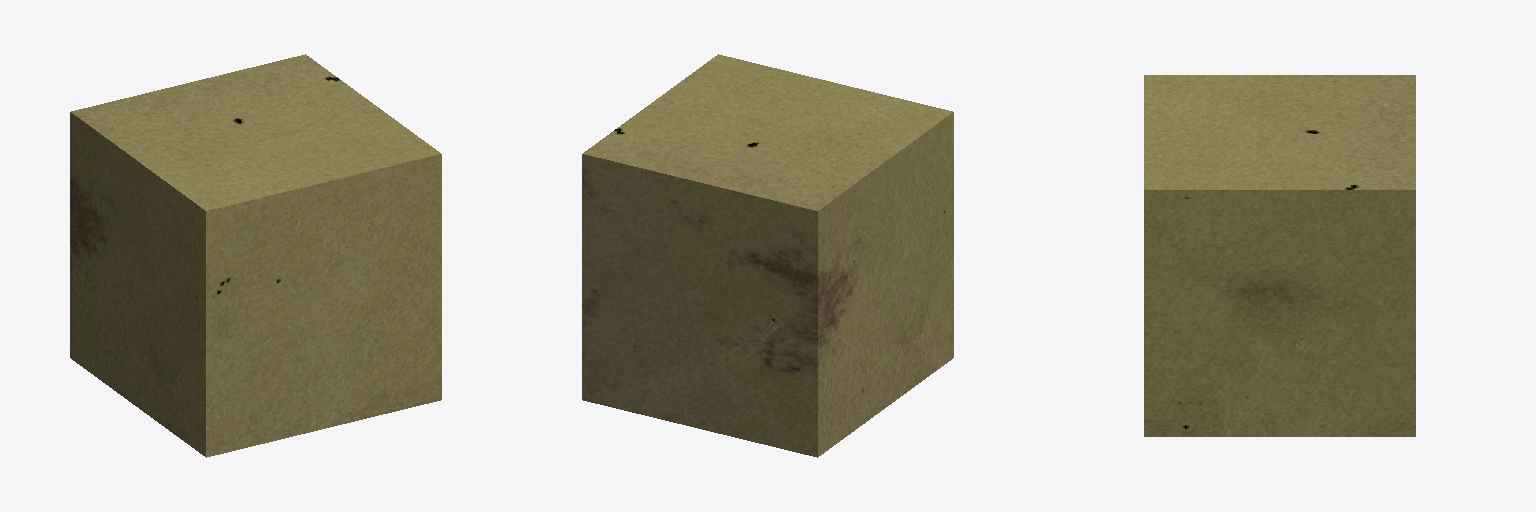
3 views of the same model, side by side, from view 1: azimuth 30°, elevation 25°; view 2: azimuth 150°, elevation 25°; view 3: azimuth 270°, elevation 25° (orthographic).
Parts seen in each view (by area): view 1: 立方体; view 2: 立方体; view 3: 立方体.
Boxes of the visible parts, x1,y1,x2,y2 form: 立方体: [70, 54, 441, 457]; 立方体: [582, 54, 953, 457]; 立方体: [1144, 75, 1415, 436].
Size of the model in its own units: 1 by 1 by 1.
Materials: 1 (1 with a texture image).